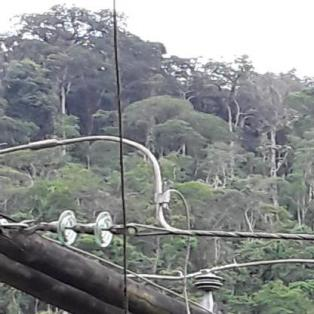Poste: (153, 271, 256, 314)
